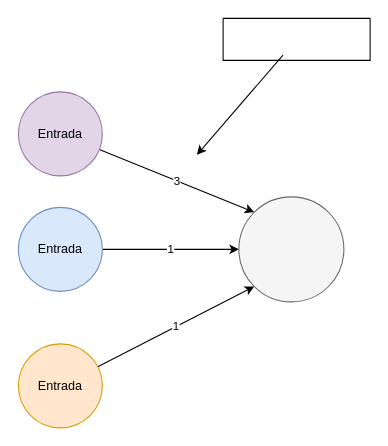
Image size: 388x446. Some labels were removed from this diagram. The shapes that lost their labels are listed below. From the top down, each one's centre as x and y in pixels, then its label:
At (x=296, y=38): "PESO".
At (x=291, y=249): "Salida".
